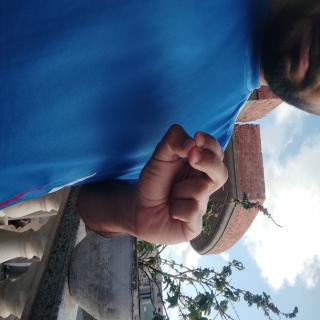QAAF: (84, 118, 196, 267)
